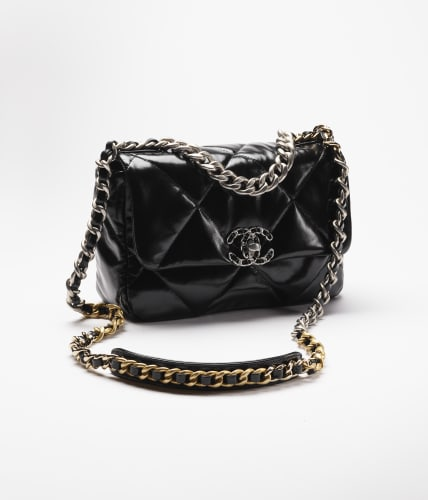channel: (66, 130, 354, 321), (57, 150, 123, 301), (171, 147, 297, 194), (204, 223, 278, 272)
